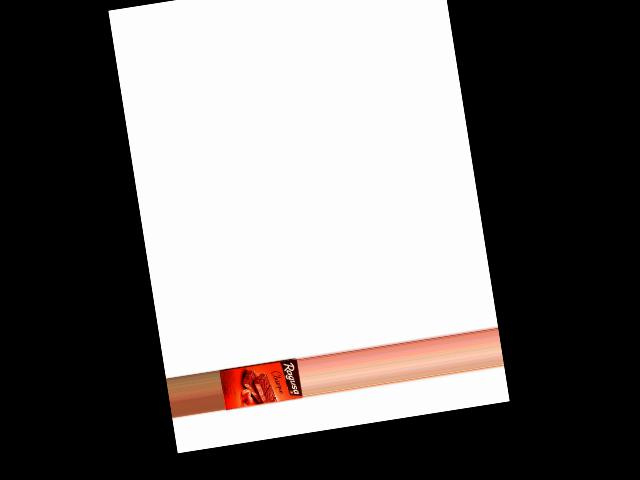chocolate: (218, 356, 302, 415)
